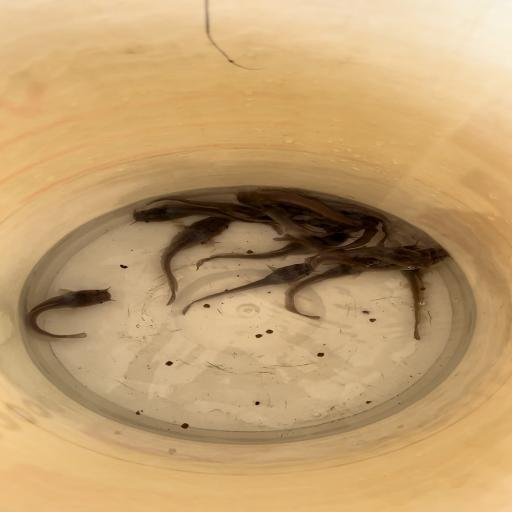lele: (179, 262, 316, 315), (156, 217, 232, 306), (284, 256, 376, 318), (190, 233, 348, 268), (23, 283, 115, 339), (236, 190, 366, 226), (313, 197, 393, 246), (392, 244, 432, 341), (291, 247, 433, 271), (321, 247, 450, 271), (148, 193, 262, 216), (127, 204, 235, 227), (258, 206, 320, 233)
